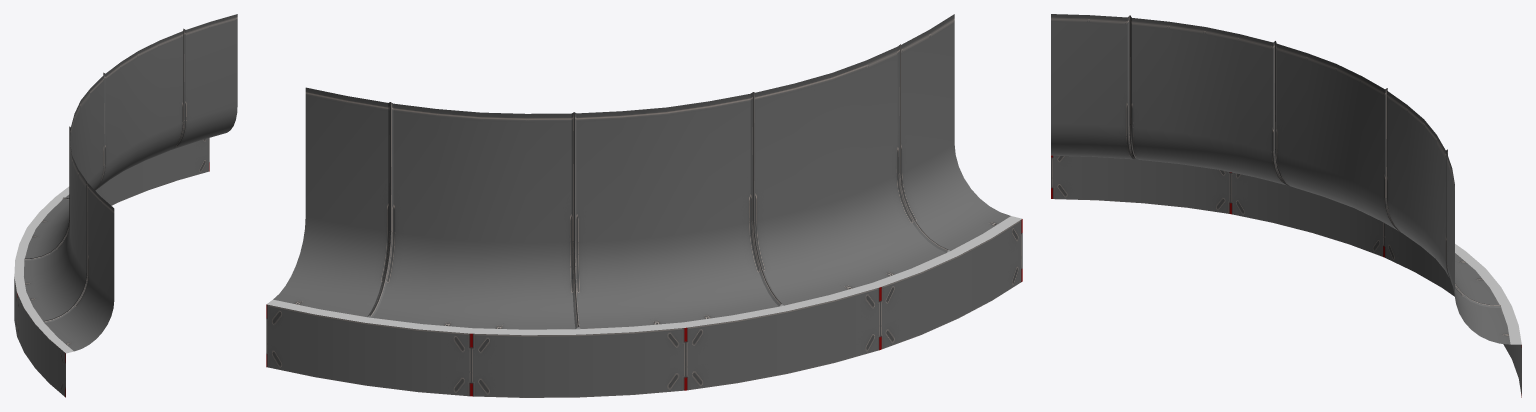
File: TopPlastic_Corner_Round_Inner.gltf
3 views of the same model, side by side, from view 1: azimuth 30°, elevation 25°; view 2: azimuth 150°, elevation 25°; view 3: azimuth 270°, elevation 25° (orthographic). The views are drawn at different scales.
Visible parts, largest first — view 1: TopPlastic_Corner_Round_Inner; view 2: TopPlastic_Corner_Round_Inner; view 3: TopPlastic_Corner_Round_Inner.
Part boxes in pixels (bbox=[...]): TopPlastic_Corner_Round_Inner: bbox=[14, 14, 237, 397]; TopPlastic_Corner_Round_Inner: bbox=[266, 14, 1022, 397]; TopPlastic_Corner_Round_Inner: bbox=[1051, 14, 1521, 397].
Bounding box in the file's own units: 4 × 2.02 × 4.
3 materials, 3 textured.
